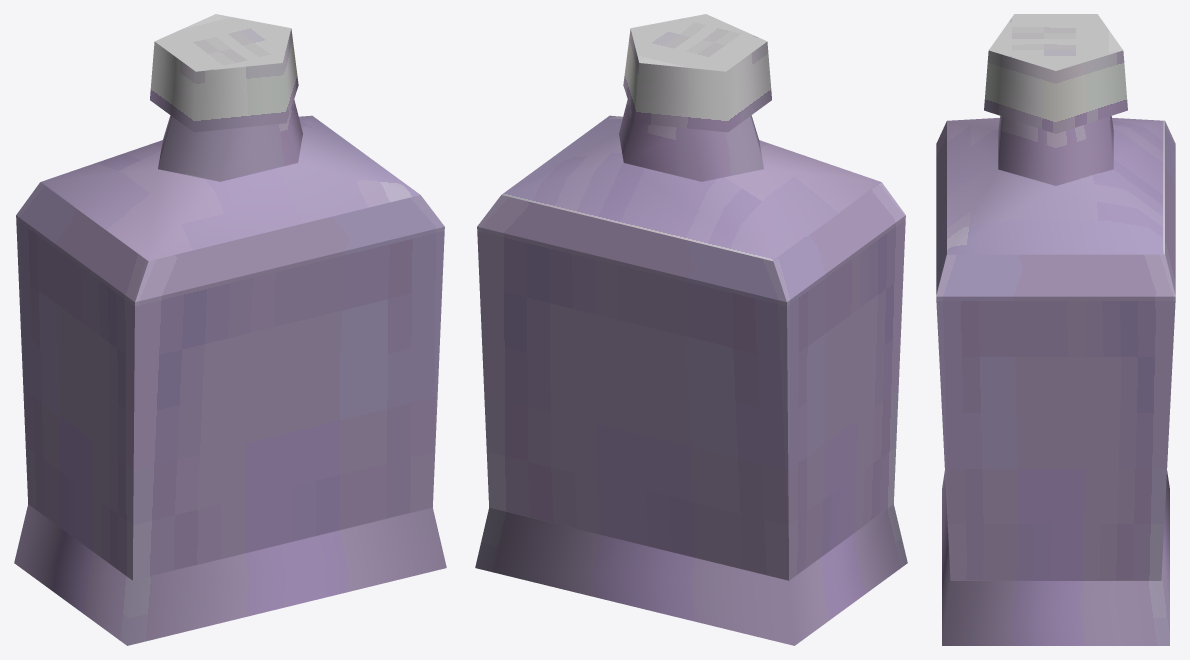
Rendered from eqp_bottle_s01_l2.fbx.
The picture shows the model from 3 angles, left to right: view 1: azimuth 30°, elevation 25°; view 2: azimuth 150°, elevation 25°; view 3: azimuth 270°, elevation 25°; orthographic projection.
Visible parts, largest first — view 1: mesh_node; view 2: mesh_node; view 3: mesh_node.
Part boxes in pixels (x1,y1,x2,y2): mesh_node: [14, 14, 446, 645]; mesh_node: [475, 14, 907, 645]; mesh_node: [936, 14, 1175, 645].
Size of the model in its own units: 0.0618 by 0.0966 by 0.0399.
